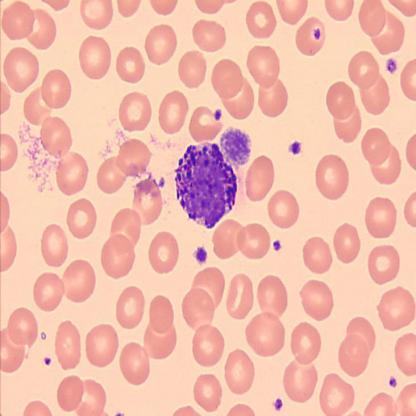Basophil: (174, 139, 239, 231)
